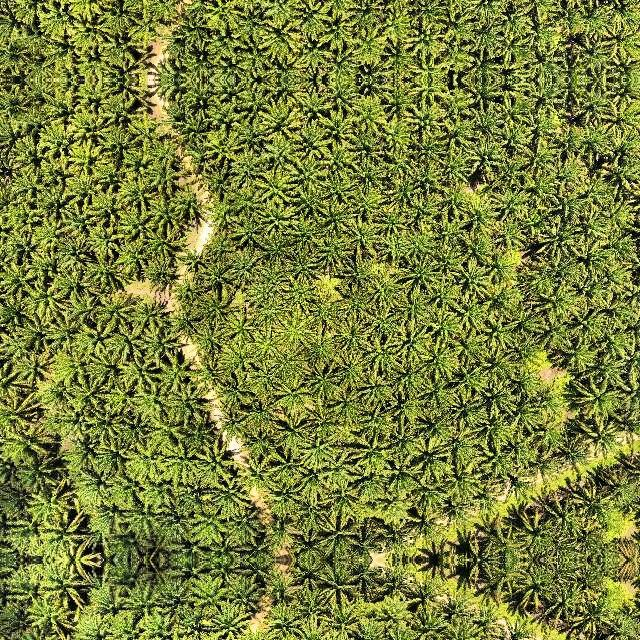Kelapa_Sawit: (159, 377, 217, 432), (535, 489, 592, 542), (535, 579, 592, 632), (18, 277, 77, 327), (512, 505, 564, 560), (512, 561, 564, 616), (261, 473, 316, 523), (530, 215, 586, 264), (419, 332, 466, 390), (121, 429, 172, 482), (530, 279, 583, 330), (569, 373, 623, 423), (476, 275, 525, 330), (473, 369, 521, 424), (575, 415, 630, 463), (267, 305, 318, 356), (10, 448, 67, 493), (494, 419, 538, 477), (190, 438, 242, 487), (152, 349, 204, 398), (63, 138, 117, 185), (299, 358, 349, 408), (566, 477, 615, 528), (469, 433, 517, 485), (401, 98, 451, 147), (26, 481, 76, 530), (419, 305, 469, 354), (401, 14, 451, 63), (26, 591, 76, 640), (587, 258, 638, 306), (138, 466, 190, 513), (410, 432, 456, 485), (529, 407, 574, 461), (6, 509, 55, 558), (6, 563, 55, 612), (93, 289, 141, 339), (211, 473, 261, 521), (171, 467, 219, 517), (22, 247, 72, 295), (472, 338, 520, 388), (359, 330, 407, 380), (260, 597, 315, 640), (565, 592, 614, 640), (454, 191, 501, 241), (589, 285, 639, 332), (111, 402, 162, 448), (218, 504, 270, 549), (363, 484, 415, 529), (218, 572, 270, 617), (363, 592, 415, 637), (389, 322, 443, 365), (254, 162, 302, 210), (82, 251, 130, 299), (155, 435, 204, 482), (86, 345, 135, 392), (132, 296, 179, 345), (440, 454, 487, 503), (146, 191, 192, 241), (256, 96, 301, 147), (290, 460, 341, 505), (256, 14, 301, 65), (459, 103, 511, 147), (459, 13, 511, 57), (394, 250, 441, 298), (404, 465, 449, 515), (380, 412, 425, 462), (232, 419, 282, 464), (384, 349, 429, 399), (50, 345, 102, 388), (379, 453, 426, 500), (63, 139, 111, 185), (147, 407, 196, 452), (129, 376, 178, 421), (347, 431, 396, 476), (265, 407, 314, 452), (461, 136, 506, 185), (286, 158, 336, 202), (245, 226, 297, 268), (28, 214, 74, 261), (520, 109, 566, 156), (520, 5, 566, 52), (32, 185, 80, 230), (29, 149, 77, 194), (439, 423, 484, 471), (412, 403, 460, 448), (549, 332, 597, 377), (71, 318, 121, 361), (135, 322, 185, 365), (94, 92, 144, 135), (323, 441, 366, 491), (94, 26, 144, 69), (447, 293, 493, 339), (279, 211, 326, 256), (343, 181, 388, 228), (259, 196, 304, 243), (345, 90, 390, 137), (572, 207, 617, 254), (345, 24, 390, 71), (82, 405, 130, 449), (381, 387, 429, 431), (477, 276, 525, 320), (43, 316, 92, 359), (184, 499, 233, 542), (290, 488, 333, 537), (482, 153, 531, 196), (184, 579, 233, 622), (290, 584, 333, 633), (434, 82, 476, 132), (434, 28, 476, 78), (92, 432, 138, 477), (95, 375, 140, 421), (474, 374, 520, 419), (352, 398, 397, 444), (272, 375, 318, 420), (489, 92, 535, 137), (489, 24, 535, 69), (288, 181, 335, 225), (114, 348, 162, 391), (504, 361, 547, 409), (316, 165, 364, 208), (558, 241, 606, 284), (543, 180, 591, 223), (65, 373, 114, 415), (410, 439, 452, 488), (521, 80, 571, 121), (211, 599, 261, 640), (521, 40, 571, 81), (107, 319, 152, 364), (350, 463, 395, 508), (353, 369, 398, 414), (216, 306, 261, 351), (316, 196, 361, 241), (222, 145, 267, 190), (314, 104, 359, 149), (314, 12, 359, 57), (236, 453, 282, 497), (137, 250, 180, 297), (212, 368, 261, 409), (12, 347, 57, 391), (413, 373, 457, 418), (403, 155, 448, 199), (375, 138, 420, 182), (373, 112, 418, 156), (532, 314, 576, 359), (373, 4, 418, 48), (53, 200, 99, 243), (300, 399, 343, 445), (403, 128, 449, 171), (568, 87, 611, 133), (568, 27, 611, 73), (58, 175, 110, 213), (152, 499, 200, 540), (141, 224, 189, 265), (446, 351, 487, 399), (599, 155, 640, 203), (152, 581, 200, 622), (603, 126, 640, 179), (582, 351, 626, 395), (84, 218, 129, 261), (329, 381, 372, 426), (363, 269, 408, 312), (279, 273, 322, 318), (287, 121, 330, 166), (514, 165, 560, 207), (297, 433, 345, 473), (121, 109, 170, 148), (121, 13, 170, 52), (51, 228, 95, 271), (237, 392, 281, 435), (328, 346, 371, 390), (322, 385, 366, 428), (188, 352, 232, 395), (247, 293, 291, 336), (346, 154, 390, 197), (492, 119, 535, 163), (72, 461, 117, 503), (63, 105, 108, 147), (422, 239, 467, 281), (243, 327, 288, 369), (597, 191, 639, 236), (63, 13, 108, 55), (313, 232, 360, 272), (228, 116, 276, 155), (228, 6, 276, 45), (52, 267, 95, 310), (267, 446, 310, 489), (258, 136, 301, 179), (547, 151, 590, 194), (108, 465, 152, 507), (303, 293, 345, 337), (114, 174, 159, 215), (119, 494, 170, 530), (119, 590, 170, 626), (1, 425, 49, 463), (600, 98, 638, 146), (600, 14, 638, 62), (9, 169, 52, 211), (321, 477, 364, 519), (444, 384, 486, 427), (381, 168, 424, 210), (342, 124, 385, 166), (12, 133, 57, 173), (317, 137, 357, 182), (599, 223, 639, 268), (88, 160, 134, 199), (218, 184, 266, 221), (171, 603, 219, 640), (335, 251, 377, 293), (574, 120, 610, 169), (491, 0, 534, 41), (596, 462, 636, 506), (318, 516, 362, 556), (456, 256, 496, 300), (489, 213, 529, 257), (567, 170, 611, 210), (318, 564, 362, 604), (63, 433, 108, 472), (110, 241, 155, 280), (507, 329, 546, 374), (215, 342, 260, 381), (192, 288, 237, 327), (490, 184, 535, 223), (84, 187, 134, 222), (142, 159, 188, 197), (173, 80, 221, 116), (173, 44, 221, 80), (343, 217, 385, 258), (517, 137, 559, 178), (94, 123, 137, 163), (480, 244, 520, 287), (225, 214, 265, 257), (10, 104, 54, 143), (569, 269, 613, 308), (138, 607, 190, 640), (10, 18, 54, 57), (507, 301, 545, 346), (375, 80, 420, 118), (567, 306, 612, 344), (375, 42, 420, 80), (181, 411, 222, 452), (114, 203, 155, 244), (3, 200, 44, 241), (190, 323, 231, 364), (284, 246, 325, 287), (0, 228, 42, 268), (204, 125, 246, 165), (478, 521, 521, 560), (407, 504, 450, 543), (499, 461, 538, 504), (478, 561, 521, 600), (407, 578, 450, 617), (320, 601, 363, 640), (286, 0, 329, 39), (42, 514, 86, 552), (42, 568, 86, 606), (558, 431, 595, 476), (364, 302, 406, 341), (334, 289, 376, 328), (428, 210, 467, 252), (377, 519, 420, 557), (476, 311, 514, 354), (377, 563, 420, 601), (449, 320, 486, 364), (533, 380, 569, 425), (329, 315, 374, 351), (457, 227, 496, 268), (403, 190, 444, 229), (168, 272, 207, 313), (293, 86, 334, 125), (293, 36, 334, 75), (266, 344, 309, 381), (93, 0, 136, 37), (32, 88, 85, 118), (32, 42, 85, 72), (403, 605, 448, 640), (203, 101, 252, 133), (203, 27, 252, 59), (243, 359, 289, 393), (468, 477, 508, 516), (210, 403, 250, 442), (0, 392, 38, 433), (67, 290, 108, 328), (423, 273, 464, 311), (197, 256, 238, 294), (595, 328, 636, 366), (597, 80, 640, 116), (547, 124, 590, 160), (341, 0, 384, 36), (597, 44, 640, 80), (547, 0, 590, 36), (119, 146, 164, 180), (288, 525, 333, 559), (288, 561, 333, 595), (34, 372, 74, 410), (368, 201, 408, 239), (195, 159, 233, 199), (395, 288, 436, 325), (229, 252, 266, 293), (168, 304, 205, 345), (440, 114, 477, 155), (518, 262, 555, 303), (440, 6, 477, 47), (245, 274, 287, 310), (455, 80, 509, 108), (455, 52, 509, 80), (72, 81, 124, 110), (72, 51, 124, 80), (140, 525, 184, 559), (140, 561, 184, 595), (37, 117, 76, 155), (201, 225, 240, 263), (37, 5, 76, 43), (403, 0, 449, 32), (204, 0, 246, 35), (570, 525, 613, 559), (0, 261, 34, 304), (173, 109, 216, 143), (570, 561, 613, 595), (173, 17, 216, 51), (293, 332, 338, 364), (468, 604, 508, 640), (574, 0, 610, 40), (107, 525, 148, 560), (107, 561, 148, 596), (436, 149, 473, 187), (55, 402, 91, 441), (19, 81, 71, 108), (19, 53, 71, 80), (0, 478, 34, 519), (107, 80, 156, 108), (107, 52, 156, 80), (347, 522, 384, 559), (347, 562, 384, 599), (89, 492, 128, 527), (89, 594, 128, 629), (0, 600, 34, 640), (16, 314, 57, 347), (529, 448, 566, 484), (173, 185, 212, 219), (375, 230, 414, 264), (255, 257, 294, 291), (258, 80, 307, 107), (258, 54, 307, 81), (233, 92, 274, 124), (233, 36, 274, 68), (263, 518, 302, 551), (263, 570, 302, 603), (289, 615, 340, 640), (349, 612, 394, 640), (602, 0, 639, 34), (1, 293, 34, 331), (151, 134, 185, 170), (440, 495, 476, 529), (440, 591, 476, 625), (11, 0, 56, 27), (168, 535, 218, 559), (168, 561, 218, 585), (402, 223, 436, 258), (433, 180, 467, 215), (63, 0, 117, 22), (108, 613, 152, 640), (414, 81, 452, 112), (326, 81, 364, 112), (414, 49, 452, 80), (326, 49, 364, 80), (178, 244, 213, 277), (439, 617, 486, 640), (460, 0, 505, 24), (216, 80, 254, 108), (216, 52, 254, 80), (514, 203, 547, 235), (205, 533, 244, 560), (205, 561, 244, 588), (596, 614, 636, 640), (71, 617, 116, 640), (257, 0, 300, 24), (0, 330, 30, 364), (0, 84, 30, 118), (0, 42, 30, 76), (63, 0, 111, 21), (615, 395, 640, 435), (374, 0, 419, 22), (517, 0, 559, 23), (378, 620, 425, 640), (498, 616, 537, 640), (317, 0, 357, 23), (151, 0, 185, 26), (236, 623, 282, 640), (9, 627, 66, 640), (221, 0, 266, 15), (118, 0, 163, 14), (29, 0, 77, 11), (322, 629, 365, 640), (435, 0, 472, 11), (266, 631, 309, 640), (546, 0, 589, 9)
